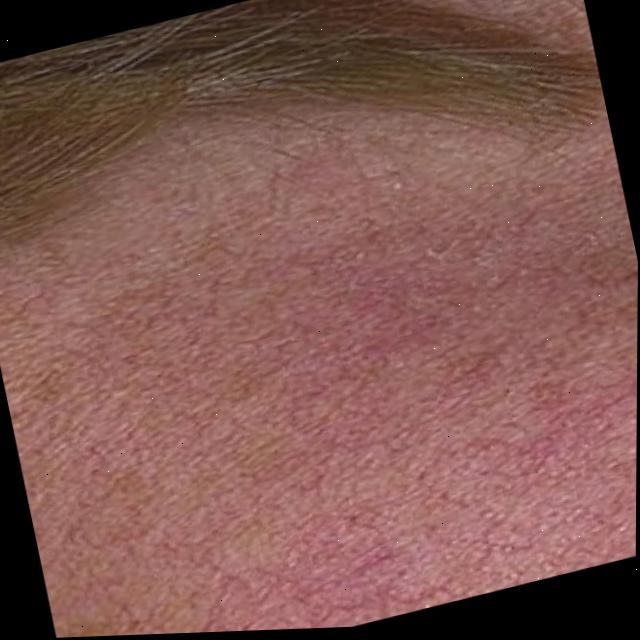Rosacea: (190, 216, 638, 633)
